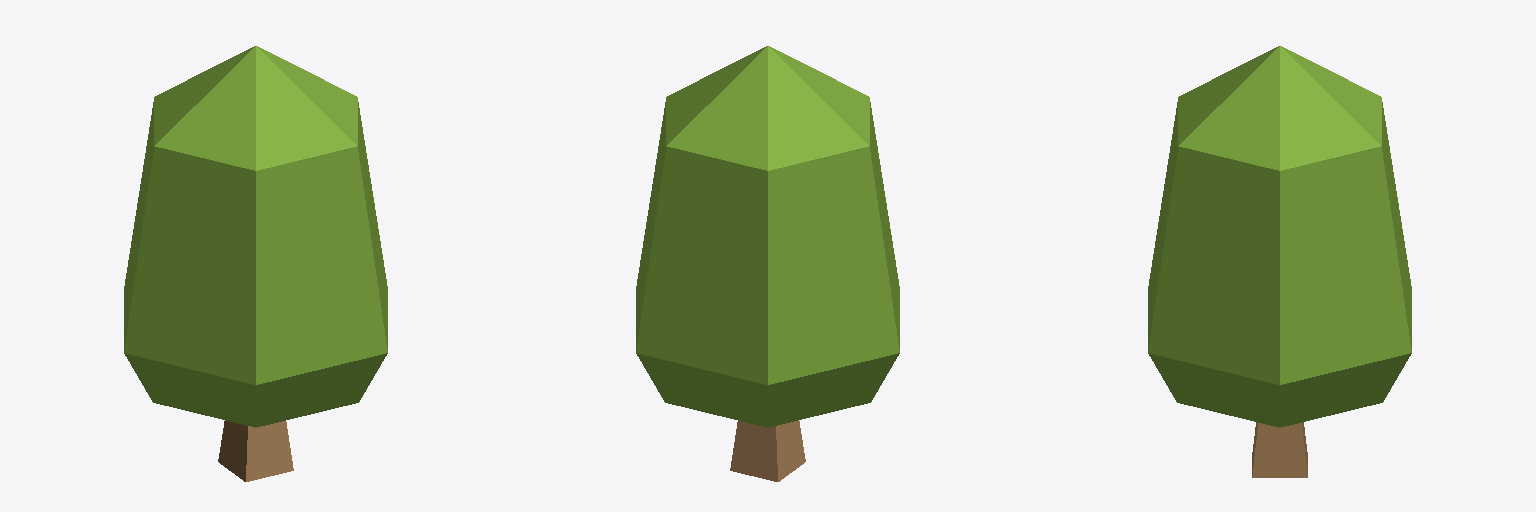
Rendered from Tree1.obj.
The picture shows the model from 3 angles: view 1: azimuth 30°, elevation 25°; view 2: azimuth 150°, elevation 25°; view 3: azimuth 270°, elevation 25°; orthographic projection.
Parts seen in each view (by area): view 1: Mesh1_Group1_Model.422; view 2: Mesh1_Group1_Model.422; view 3: Mesh1_Group1_Model.422.
Boxes of the visible parts, x1=… form: Mesh1_Group1_Model.422: x1=124, y1=46, x2=387, y2=481; Mesh1_Group1_Model.422: x1=636, y1=46, x2=899, y2=481; Mesh1_Group1_Model.422: x1=1148, y1=46, x2=1411, y2=477.
Size of the model in its own units: 1.72 by 2.62 by 1.49.